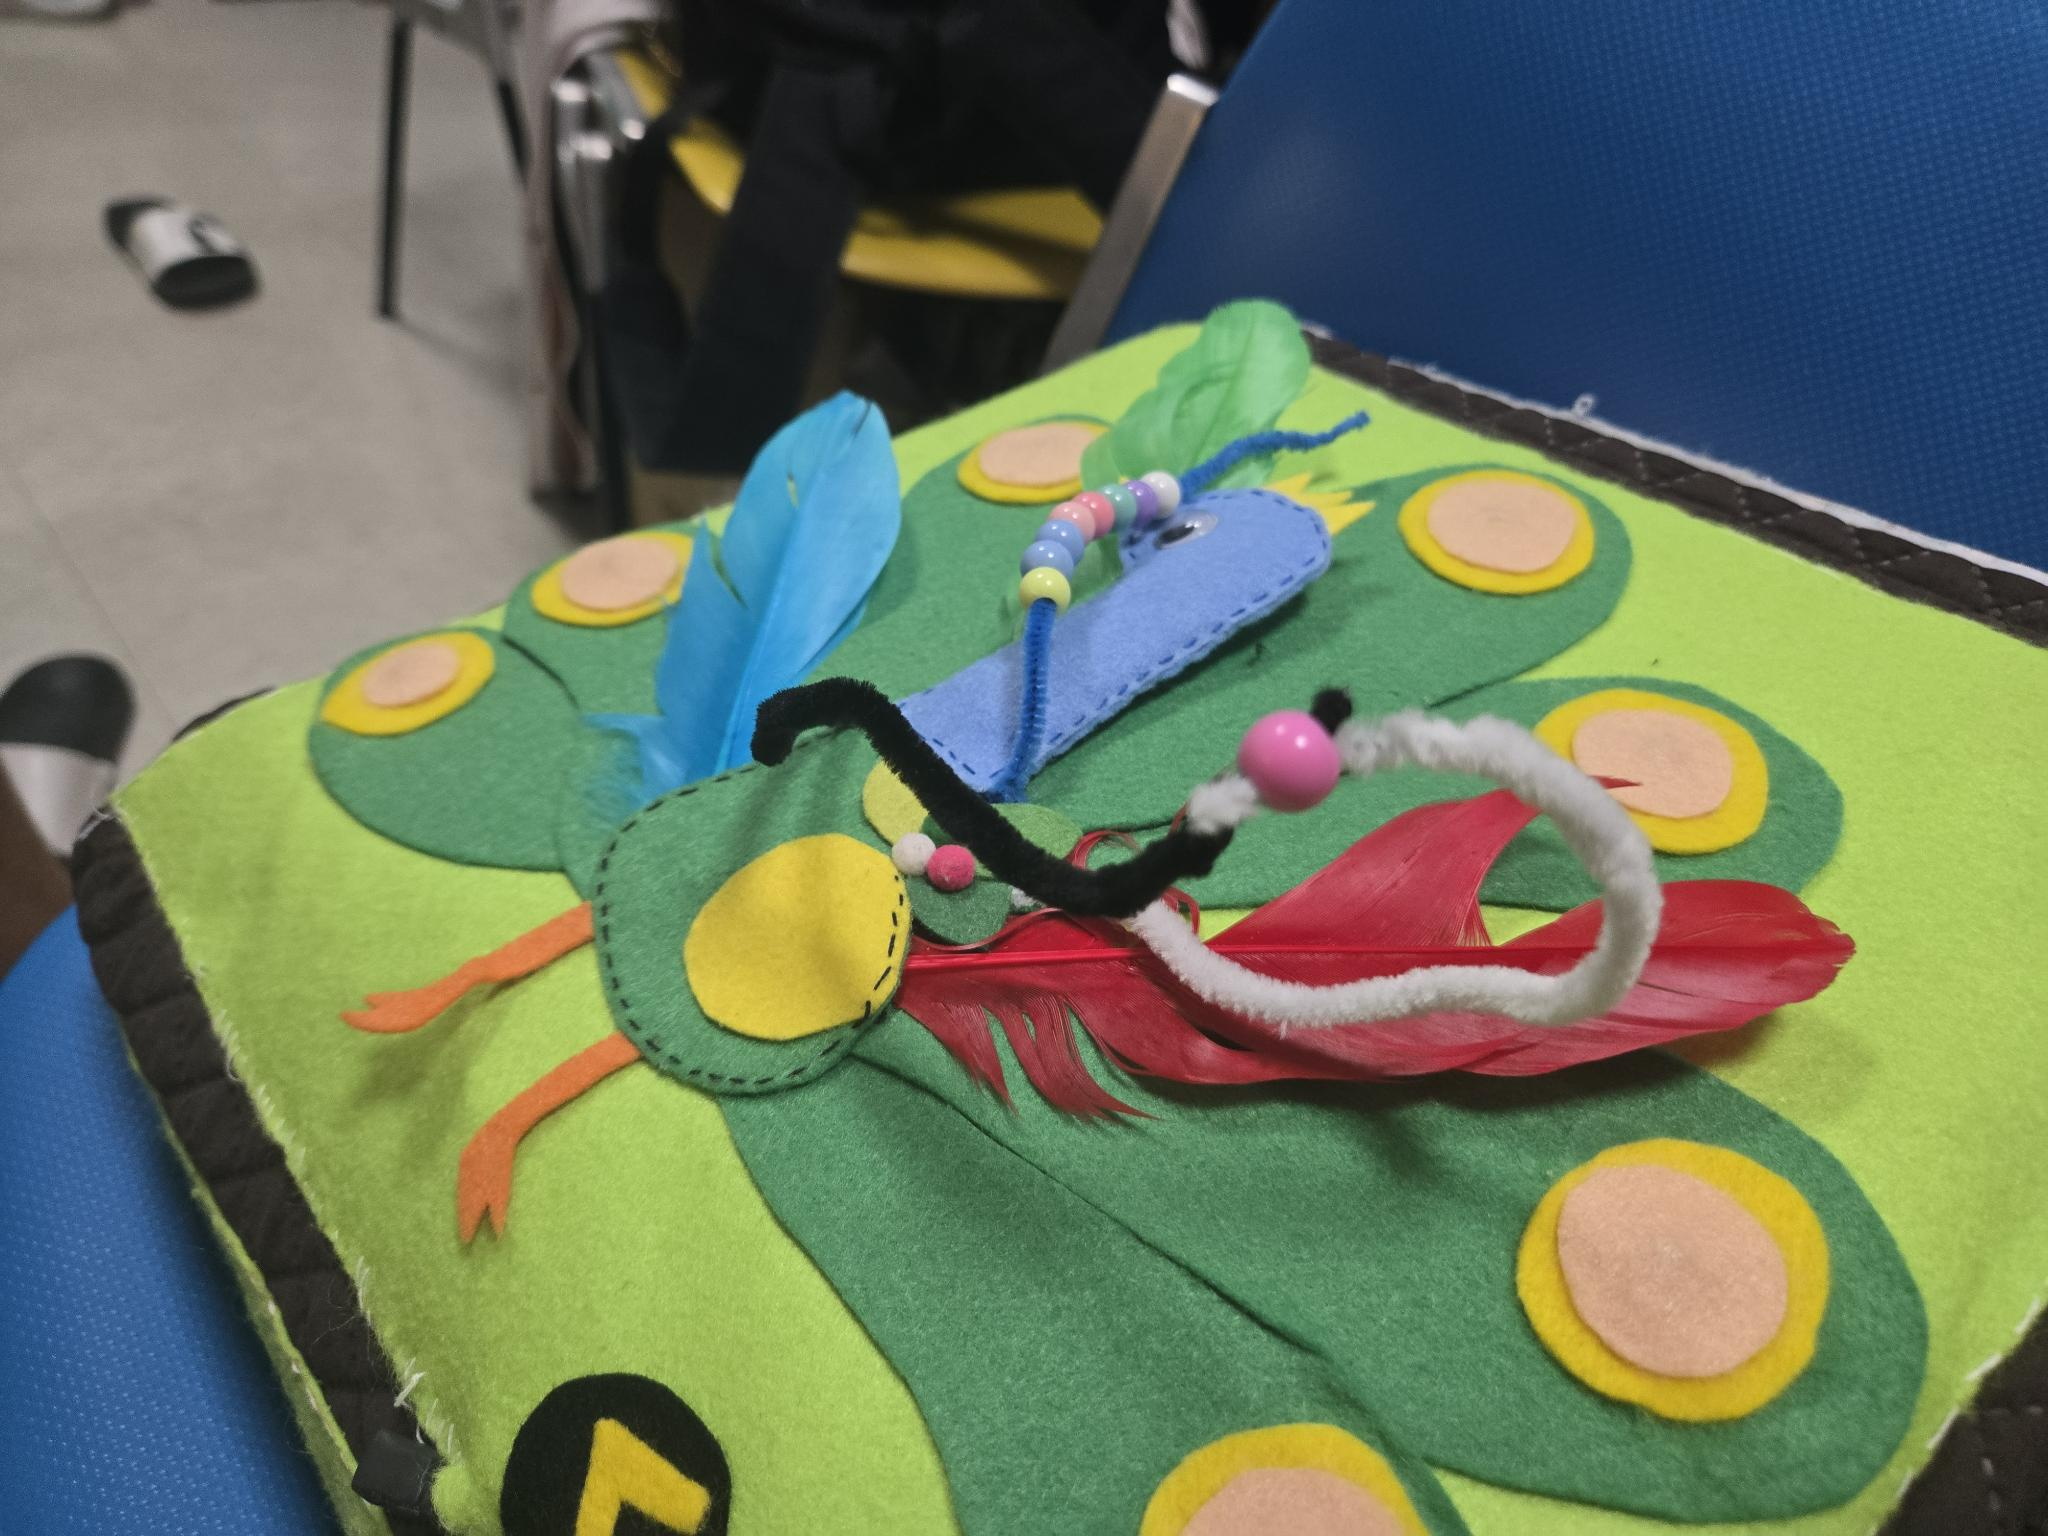bead: (1247, 705, 1356, 837), (1018, 566, 1079, 611), (1032, 518, 1085, 550), (1018, 537, 1071, 568), (1155, 466, 1185, 516), (1132, 479, 1161, 524), (1106, 479, 1130, 532), (1047, 497, 1084, 528), (1082, 494, 1109, 531)
